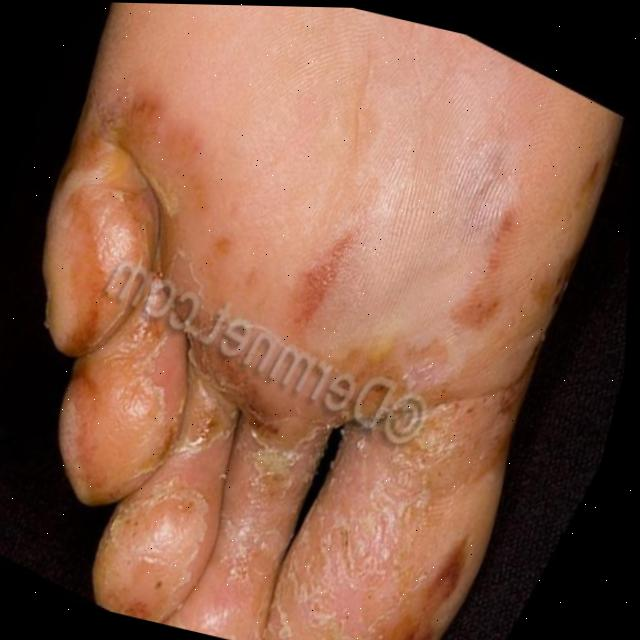Eczema: (276, 333, 540, 640), (83, 356, 261, 633), (154, 388, 330, 640), (23, 95, 193, 335), (60, 302, 184, 517)
